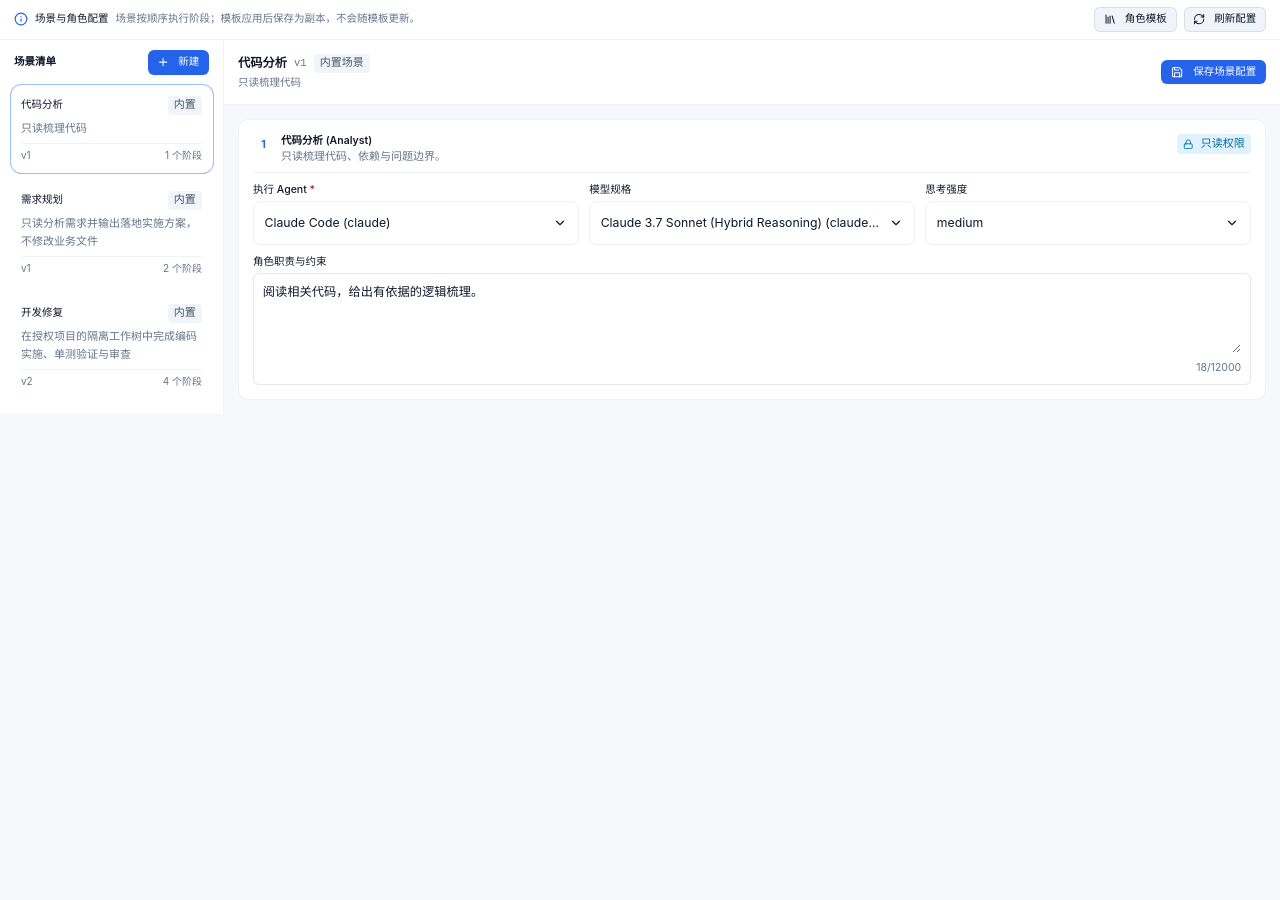
it: ScenesPage Mobile Responsive Layout › renders scenes in single-column stacked layout and allows viewing and editing
The image size is (1280, 900).
Expected: the element with class "flex-col" that starts with "场景清单" is shown, [0,40,1279,414]
Expected: the element that starts with "场景清单" is shown, [0,40,224,414]
Step 1. Replace the text in the text box with "移动端修改的职责" → (752,318), box [263,282,1241,352]
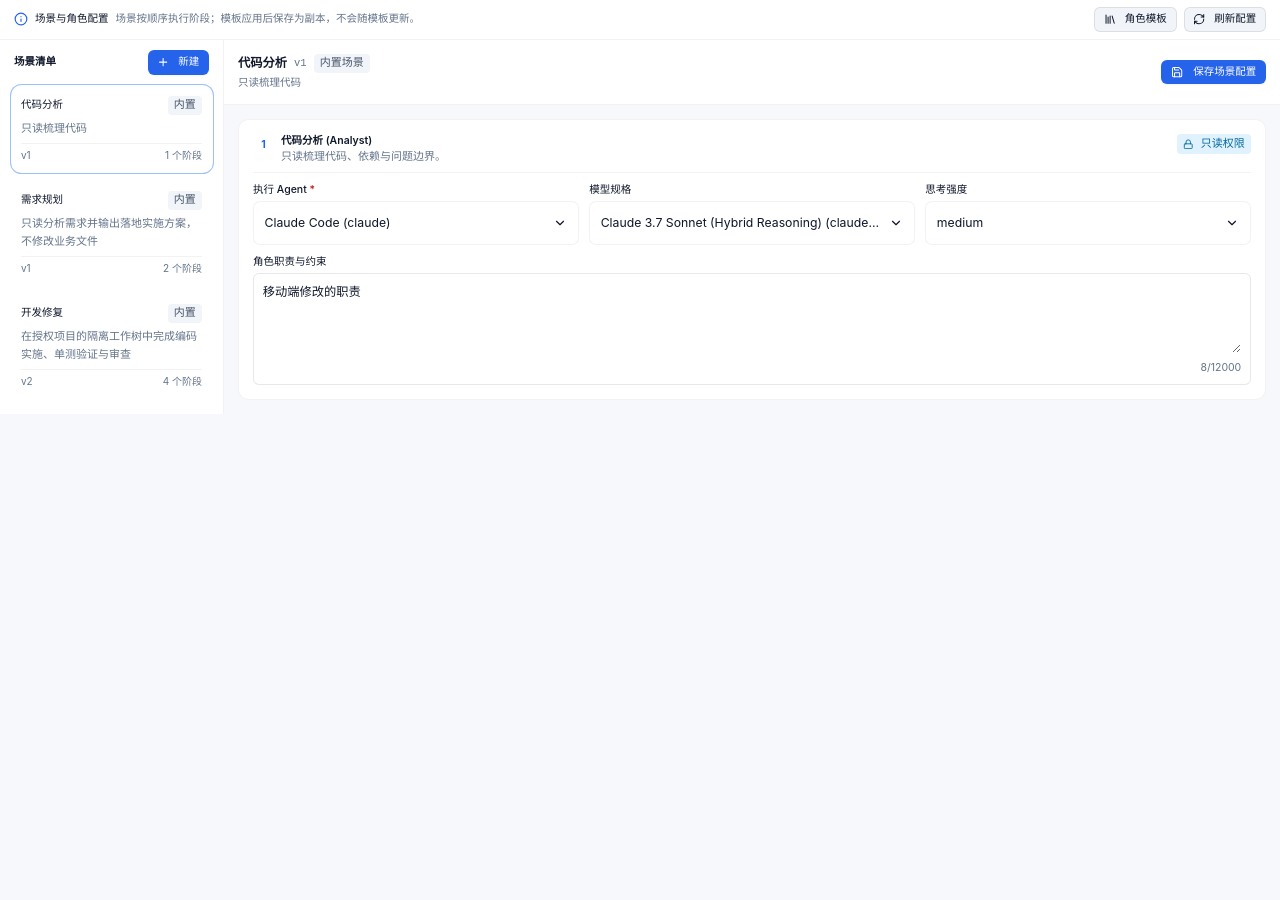
Step 2. Click the button "需求规划 内置 只读分析需求并输出落地实施方案，不修改业务文件 v1 2 个阶段" → (112,233), box [10,180,212,286]
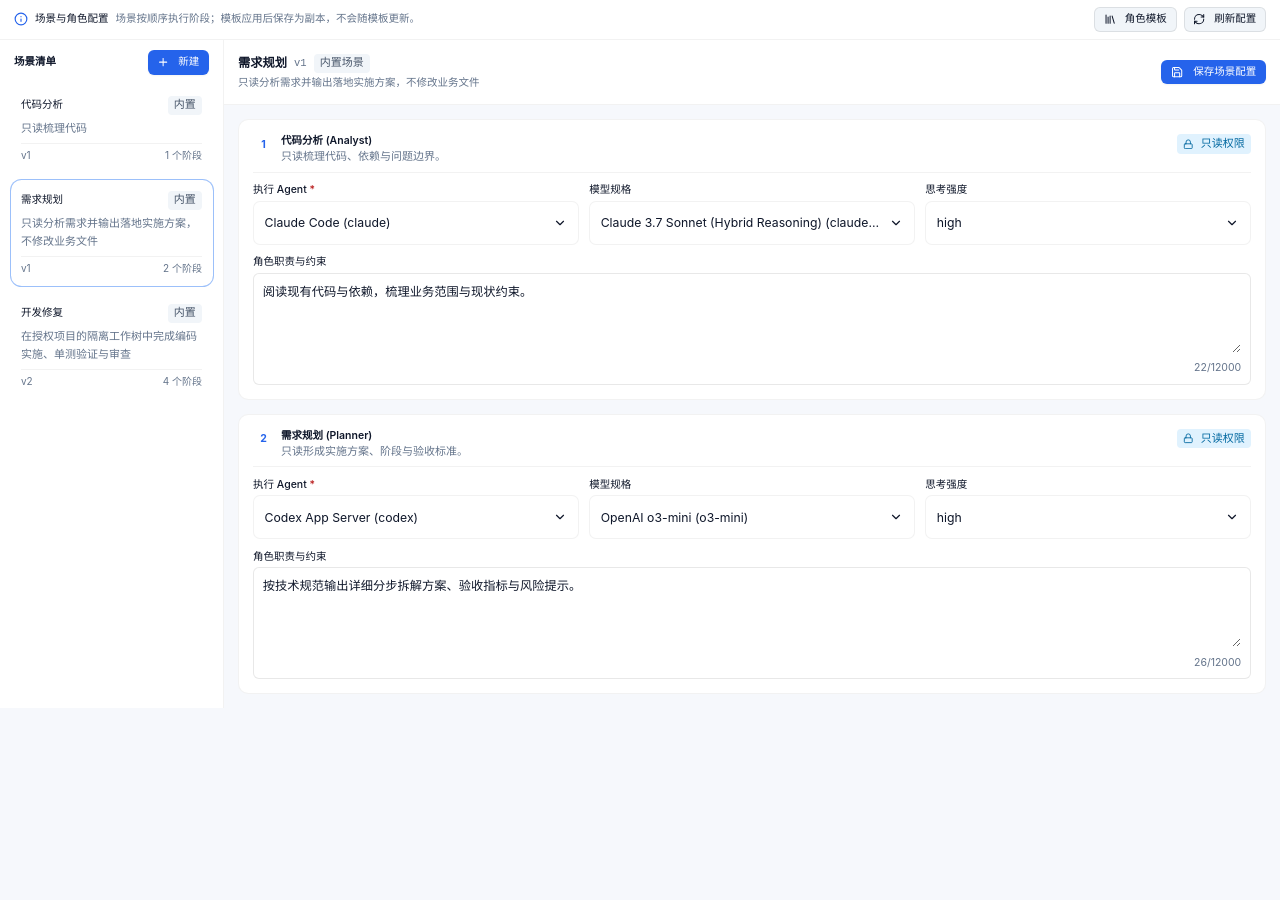
Expected: the text "需求规划" is shown, [238,55,287,70]
